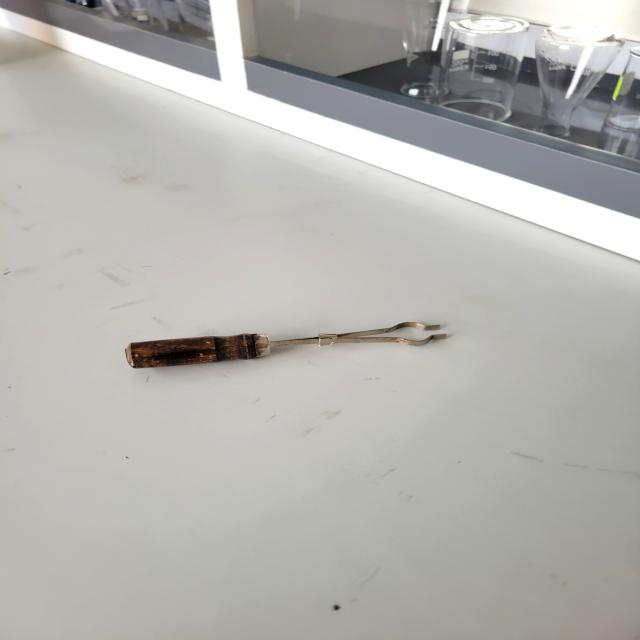TestTube_Holder: (99, 299, 462, 388)
